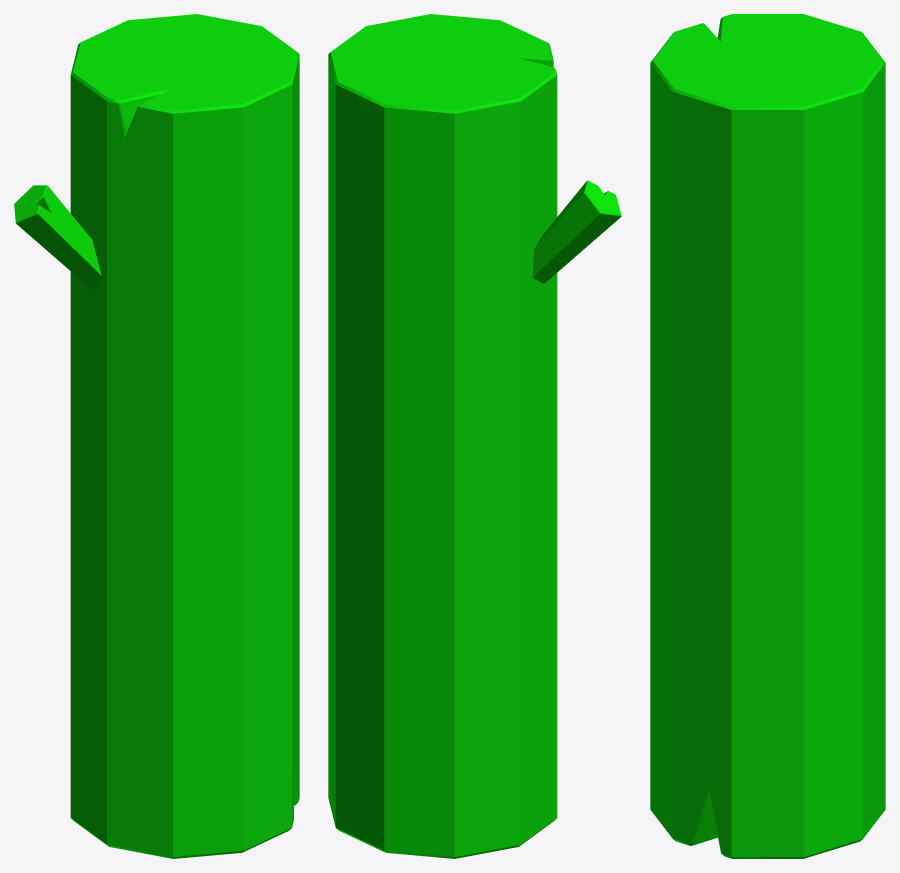
The model's file is log_1.fbx.
3 renders of one model, left to right at view 1: azimuth 30°, elevation 25°; view 2: azimuth 150°, elevation 25°; view 3: azimuth 270°, elevation 25°, orthographic.
Visible parts, largest first — view 1: Log_1; view 2: Log_1; view 3: Log_1.
Boxes of the visible parts, x1,y1,x2,y2 form: Log_1: (14,14,299,858); Log_1: (328,14,621,858); Log_1: (650,14,885,858).
Bounding box in the file's own units: 3.48 × 9.19 × 2.6.
